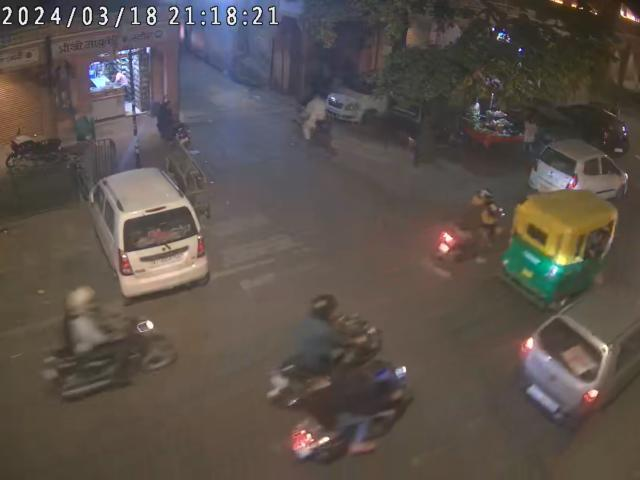auto: (514, 176, 614, 312)
car: (85, 167, 214, 326), (509, 286, 640, 432), (530, 137, 632, 206)
helmet: (310, 292, 339, 309)
motorbike-rider: (270, 282, 412, 474), (39, 278, 185, 408), (292, 92, 336, 154)
scooty-rider: (435, 180, 505, 272)
